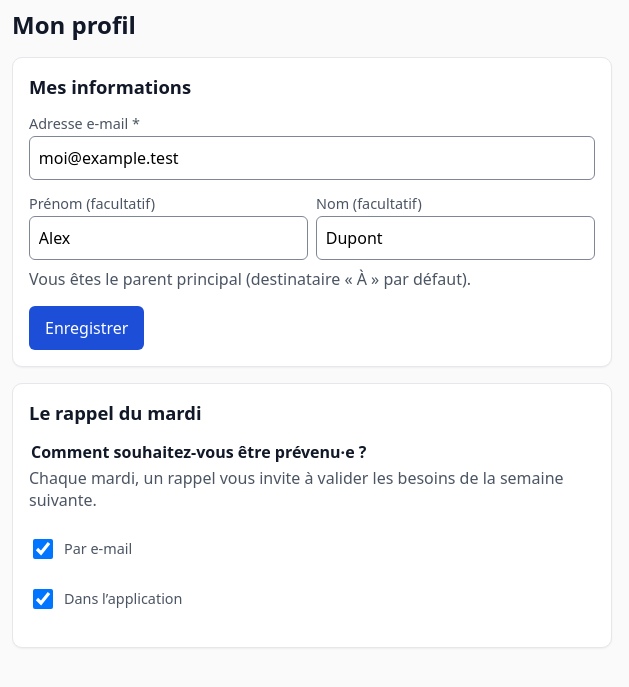
Test: MonProfilPage › relie l’erreur de champ e-mail (400) via aria-describedby
The width and height of the screenshot is (629, 687).
Step 1. Replace the text in the field labelled "Adresse e-mail *" with "nope" → (312, 158), box [29,136,595,180]
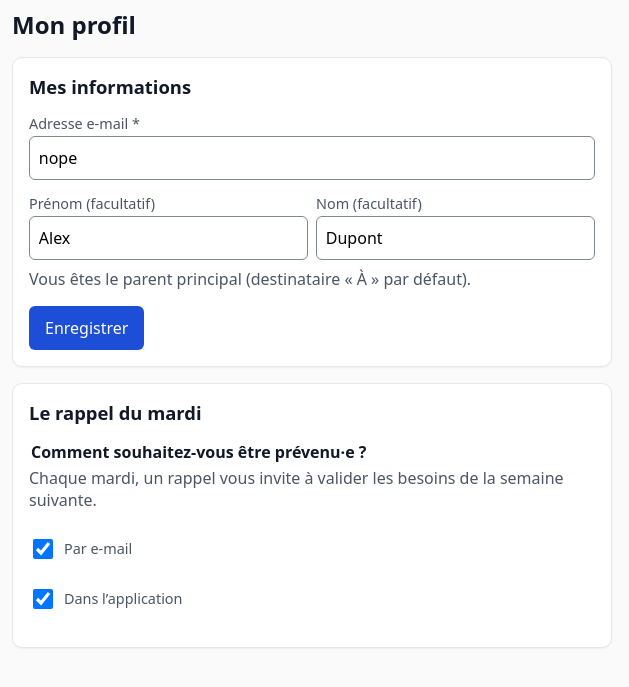
Step 2. Click the button "Enregistrer" → (87, 328), box [29,306,144,350]
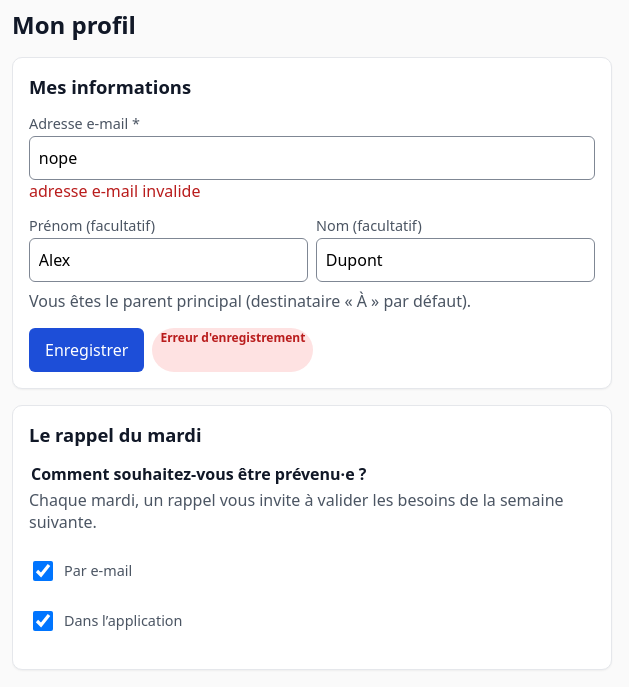
expect the message "adresse e-mail invalide" is shown: met, box [29,180,200,202]
